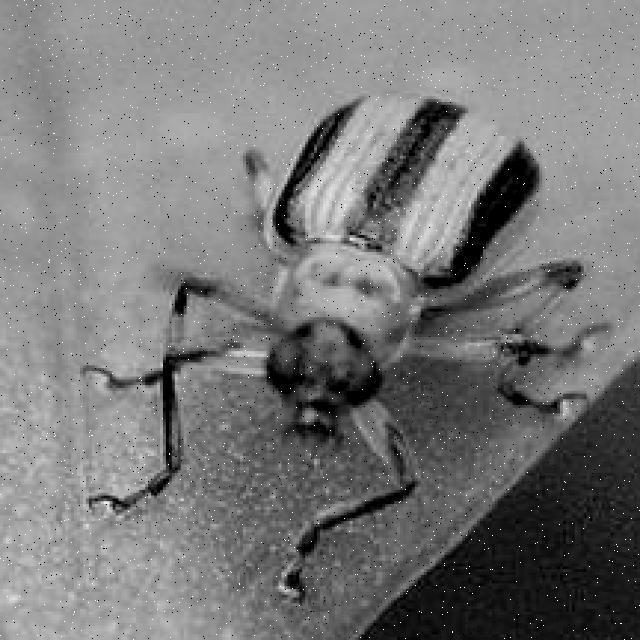trips: (78, 88, 614, 606)
